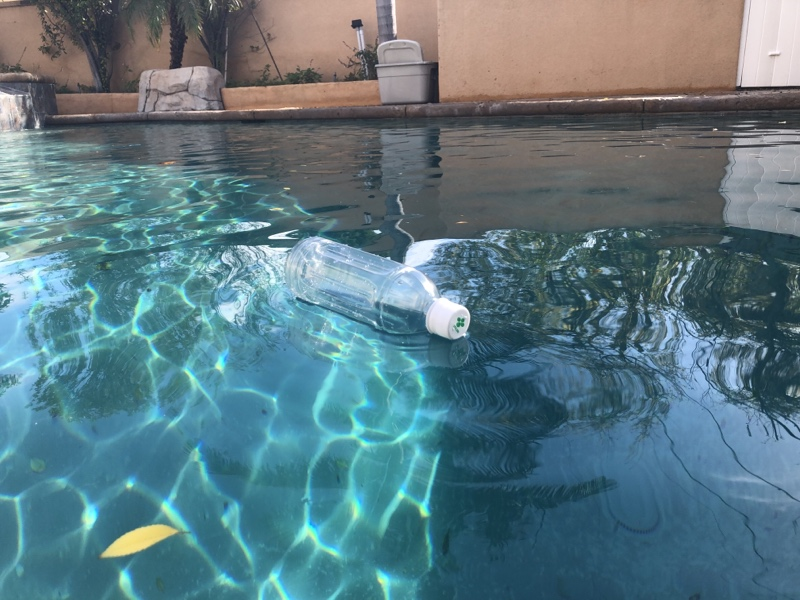Plastic Bottle: (280, 233, 478, 346)
